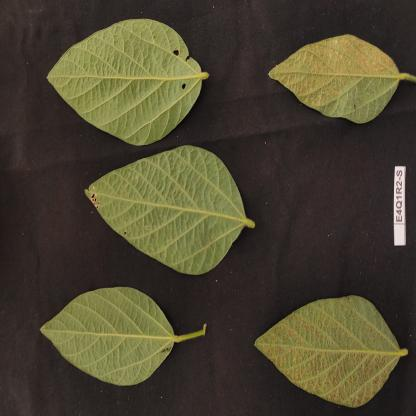label: (387, 162, 412, 248)
leaflets: (77, 143, 261, 277), (35, 14, 223, 145), (244, 286, 415, 414), (38, 285, 188, 390), (268, 23, 402, 132)
